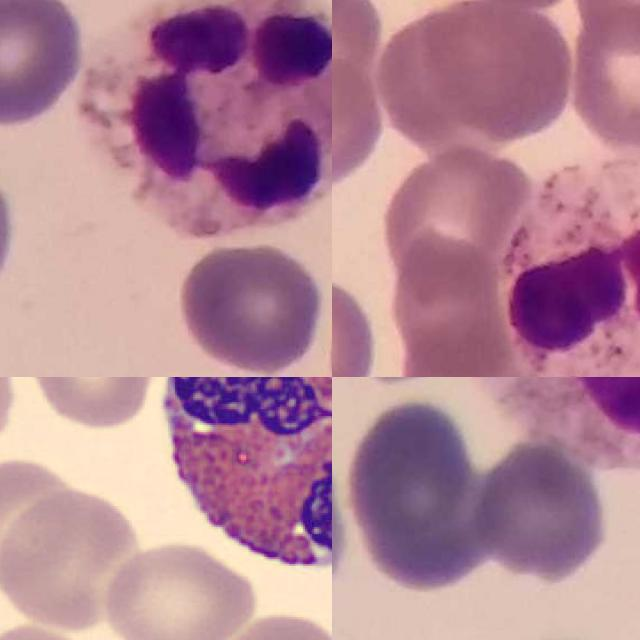Eosinophil: (145, 377, 332, 590)
Neutrophil: (84, 0, 332, 243), (507, 155, 640, 377)
RBC: (0, 484, 152, 634), (98, 537, 260, 640), (25, 377, 164, 432)
